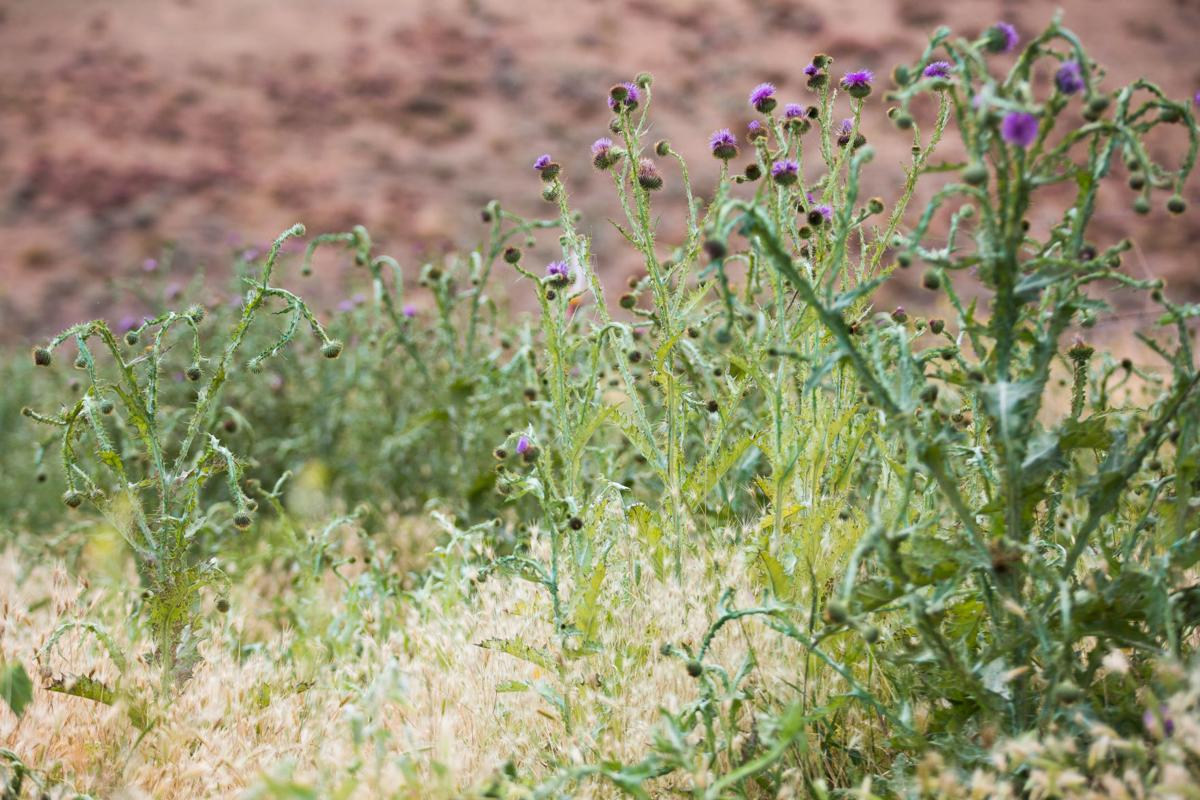thistle: (997, 108, 1047, 151), (740, 82, 785, 121), (525, 145, 567, 183), (702, 123, 743, 161), (916, 60, 957, 98), (840, 66, 879, 104), (1053, 61, 1088, 101), (983, 21, 1022, 56), (606, 80, 644, 114), (765, 155, 804, 188), (541, 260, 574, 297), (836, 122, 873, 150), (783, 103, 815, 135)
